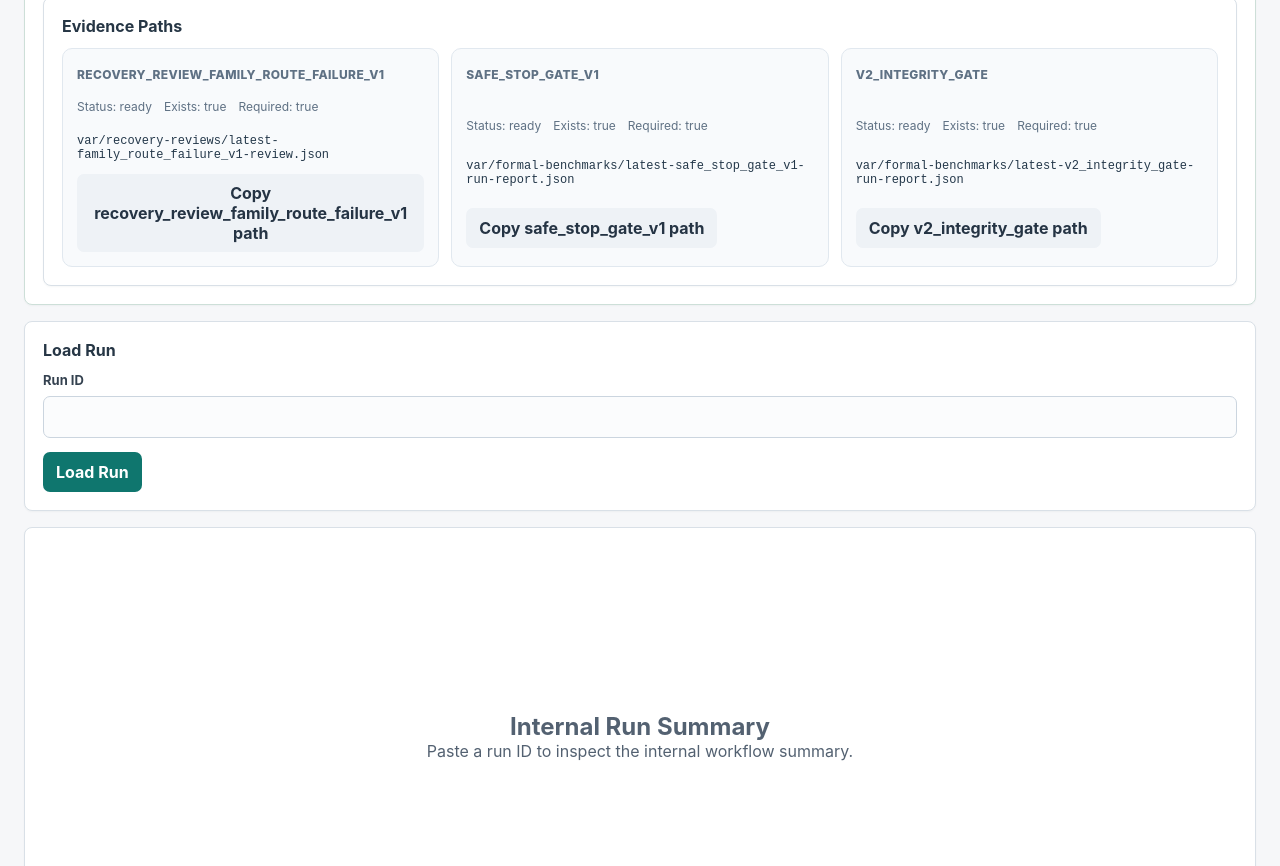
Test: ObservabilityPage › shows a neutral state when selected-plan review is missing
This screenshot has width=1280, height=866.
(page scrolled)
Type "run-1" into the field labelled "Run ID" at x=640, y=416, box [43,396,1237,438]
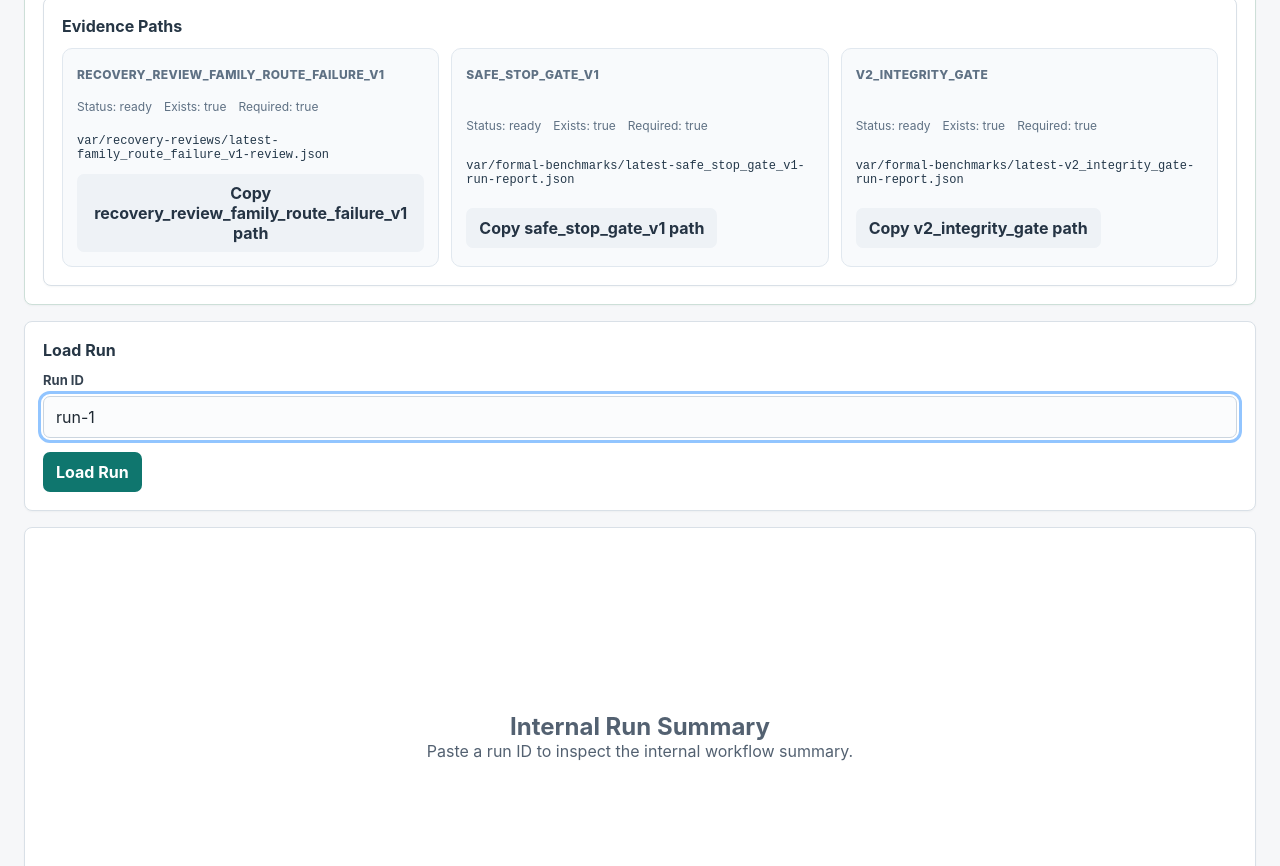
Click the button "Load Run" at x=92, y=472, box [43,452,142,492]
(page scrolled)
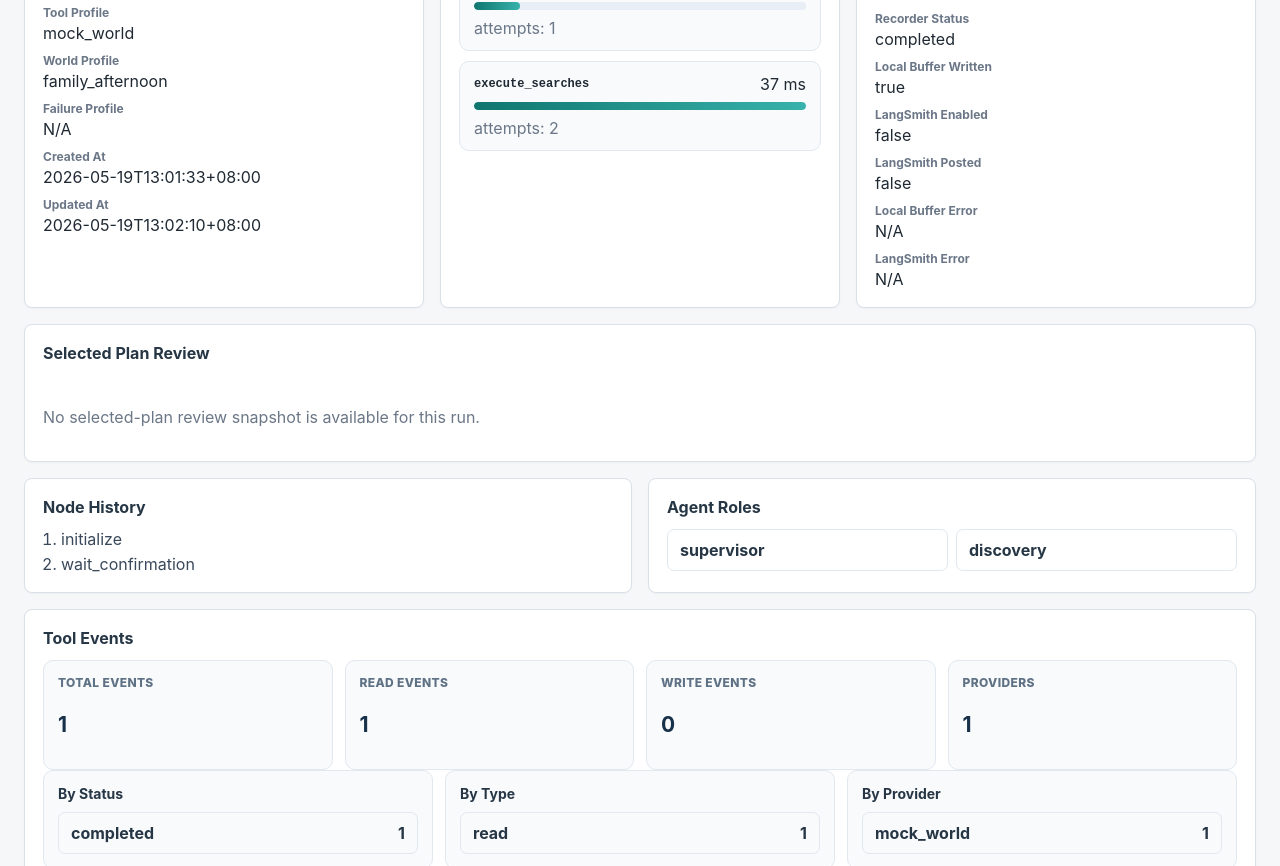
Expected: the text "No selected-plan review snapshot is available for this run." is shown, [43,406,480,426]
